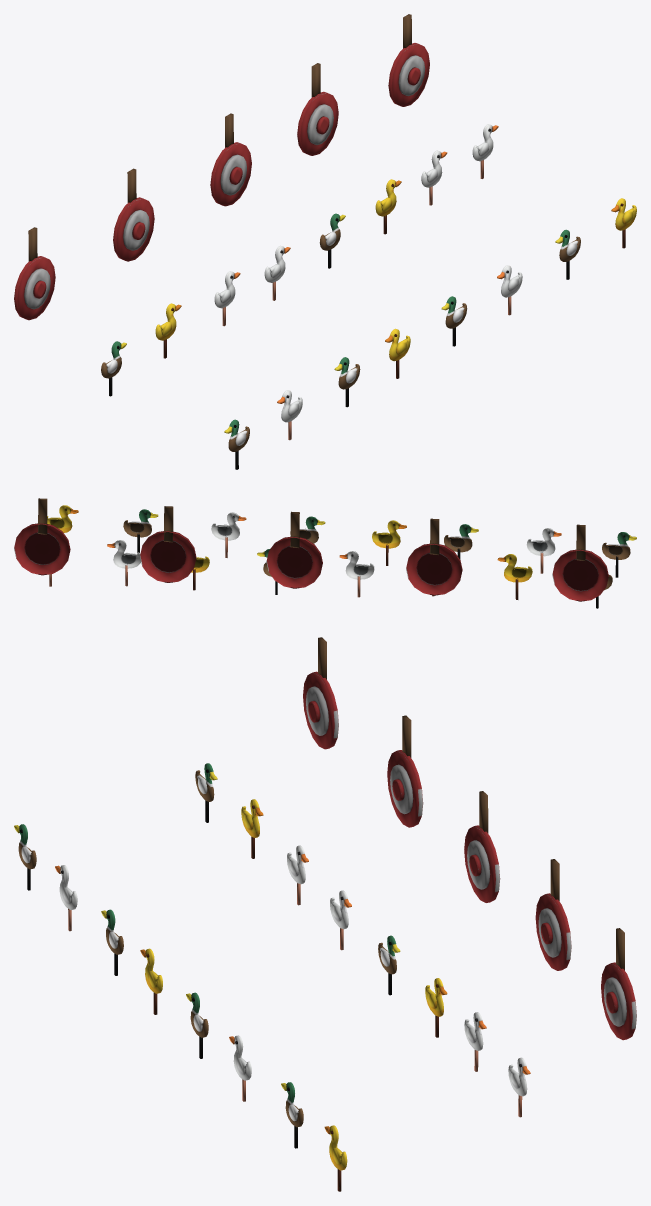
File: mesh_com_duckshooter_targets.glb
3 views of the same model, one above another, from view 1: azimuth 30°, elevation 25°; view 2: azimuth 150°, elevation 25°; view 3: azimuth 270°, elevation 25° (orthographic). The views are drawn at different scales.
Parts seen in each view (by area): view 1: mesh_com_ds_target.001, mesh_com_ds_target, mesh_com_ds_target.003, mesh_com_ds_target.002, mesh_com_ds_target.004; view 2: mesh_com_ds_target.004, mesh_com_ds_target, mesh_com_ds_target.001, mesh_com_ds_target.002, mesh_com_ds_target.003, mesh_com_ds_duck3.004, mesh_com_ds_duck1.005, mesh_com_ds_duck3.001, mesh_com_ds_duck2, mesh_com_ds_duck2.003, mesh_com_ds_duck1.003, mesh_com_ds_duck3.005 (+5 smaller); view 3: mesh_com_ds_target.001, mesh_com_ds_target.003, mesh_com_ds_target.002, mesh_com_ds_target, mesh_com_ds_target.004.
Part boxes in pixels (x1,y1,x2,y2): mesh_com_ds_target.001: [113, 168, 154, 261]; mesh_com_ds_target: [14, 227, 55, 320]; mesh_com_ds_target.003: [297, 63, 338, 155]; mesh_com_ds_target.002: [210, 113, 251, 206]; mesh_com_ds_target.004: [388, 14, 429, 106]; mesh_com_ds_target.004: [14, 498, 70, 575]; mesh_com_ds_target: [552, 524, 608, 601]; mesh_com_ds_target.001: [406, 518, 462, 595]; mesh_com_ds_target.002: [266, 511, 322, 588]; mesh_com_ds_target.003: [140, 506, 196, 582]; mesh_com_ds_duck3.004: [526, 528, 561, 573]; mesh_com_ds_duck1.005: [602, 532, 636, 577]; mesh_com_ds_duck3.001: [339, 551, 374, 597]; mesh_com_ds_duck2: [497, 554, 532, 599]; mesh_com_ds_duck2.003: [372, 520, 406, 565]; mesh_com_ds_duck1.003: [123, 509, 158, 554]; mesh_com_ds_duck3.005: [211, 512, 246, 557]; mesh_com_ds_target.001: [387, 715, 423, 827]; mesh_com_ds_target.003: [535, 859, 571, 970]; mesh_com_ds_target.002: [464, 791, 500, 902]; mesh_com_ds_target: [303, 637, 338, 749]; mesh_com_ds_target.004: [601, 928, 636, 1040].
Bounding box in the file's own units: 7.12 × 1.81 × 5.04.
Materials: 1 (1 with a texture image).
